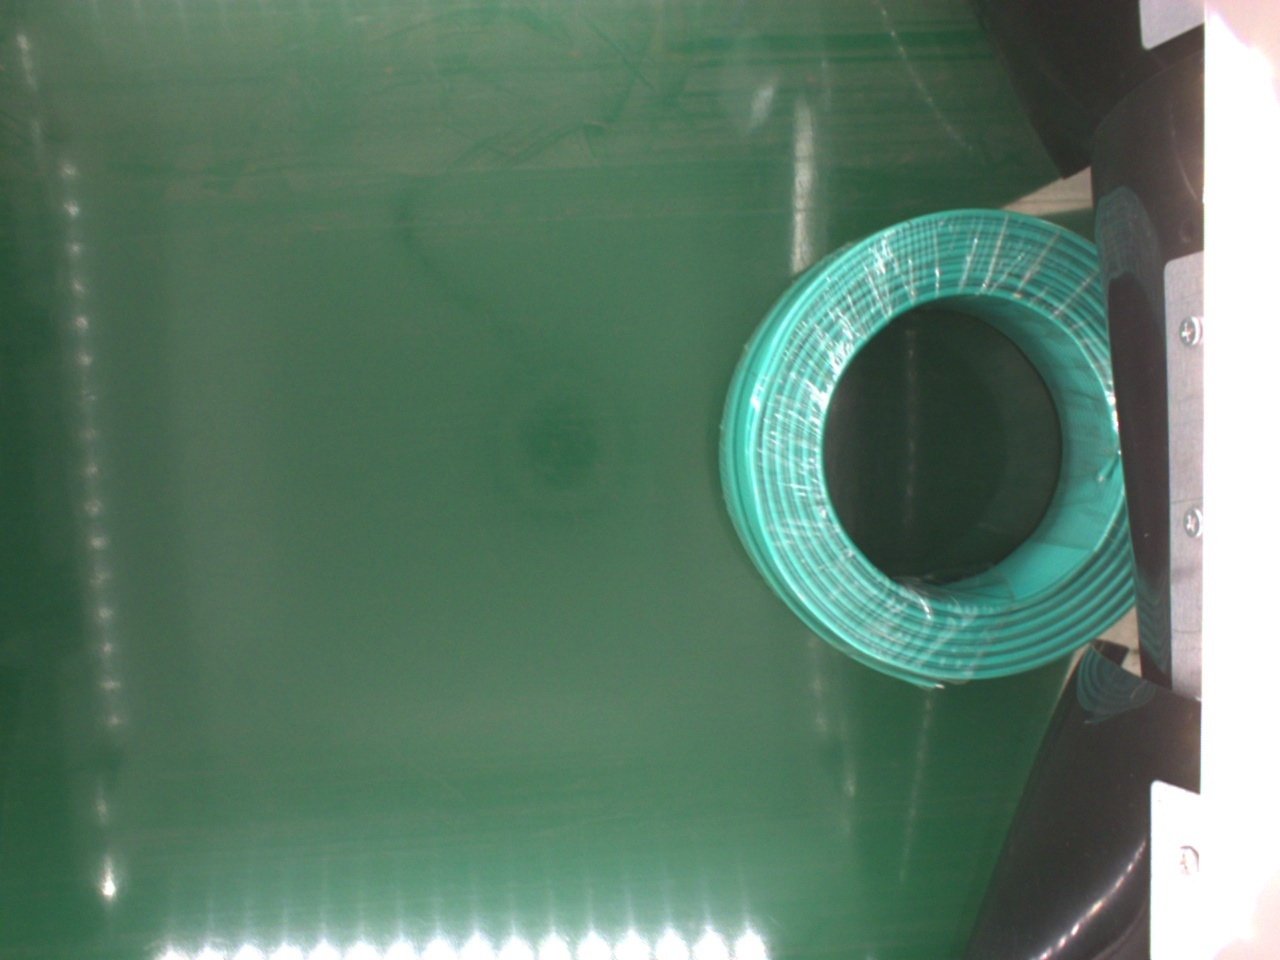green: (718, 202, 1147, 691)
